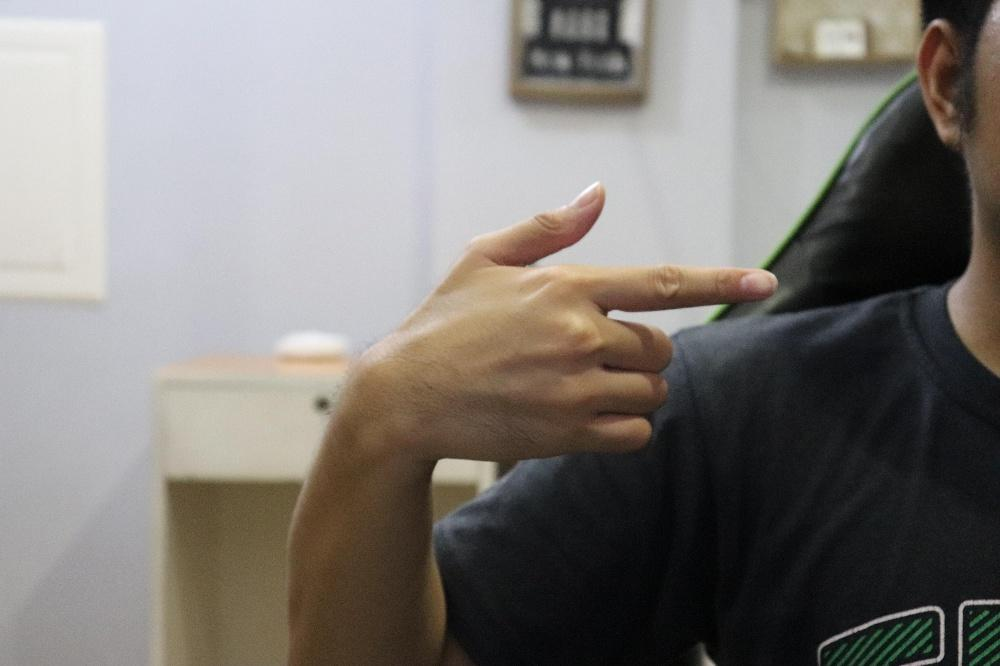g: (354, 179, 778, 463)
